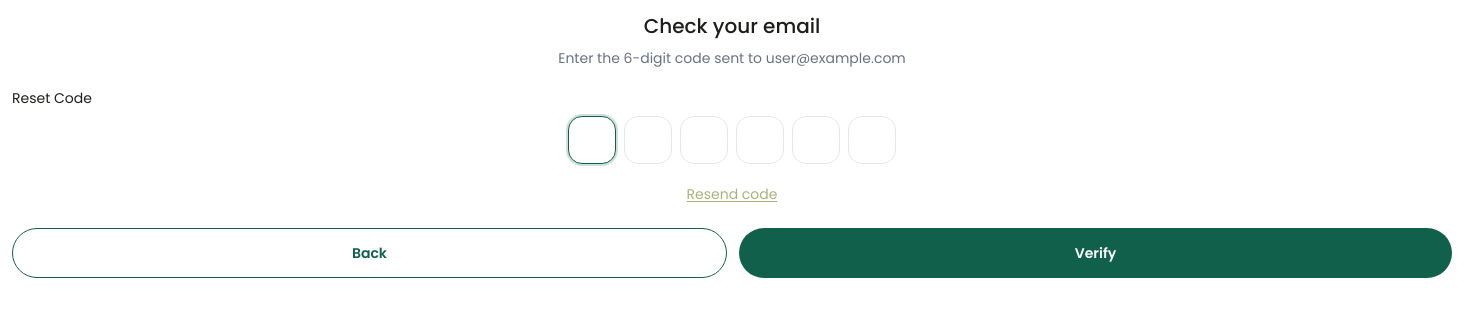
Test: ForgotPasswordVerifyForm › shows try-again-later message when resend is rate-limited
Click the button "Resend code" at (732, 194), box [12, 184, 1452, 204]
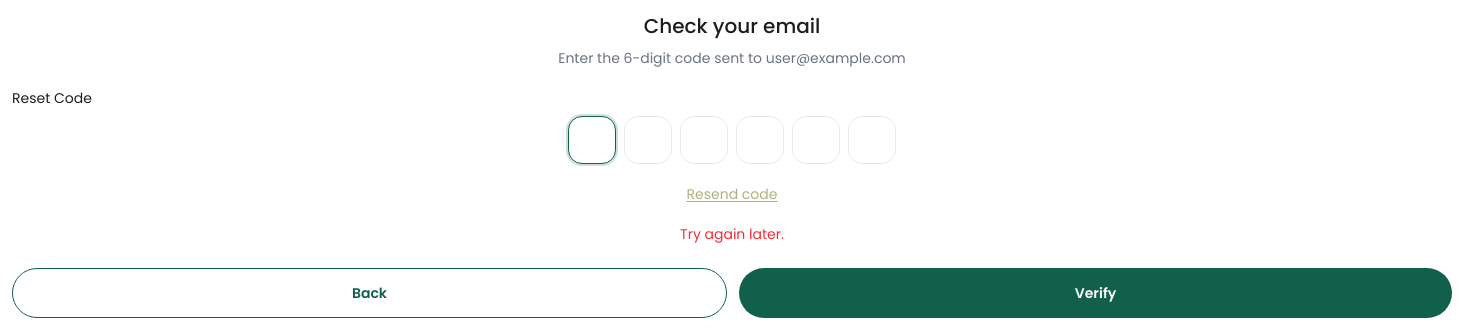
Result: the text "Try again later." is shown at [680, 224, 784, 244]
